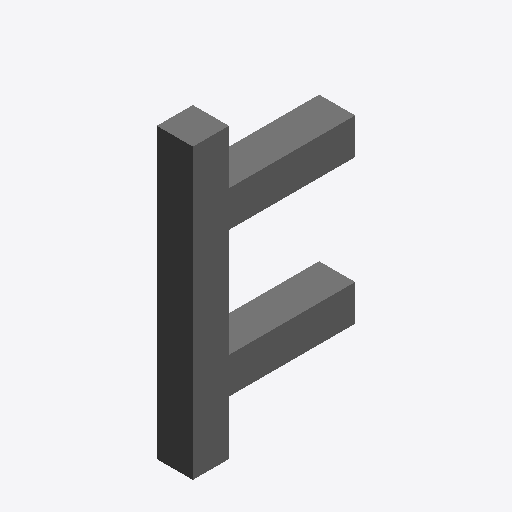
A Minecraft block model of 3 cuboids, rendered isometrically (azimuth 45°, elevation 35.3°) with the resource pack's own textures.
Visible parts, largest first — element 1, element 2, element 3.
Boxes of the visible parts, x1=… form: element 1: x1=157, y1=105, x2=228, y2=479; element 2: x1=229, y1=261, x2=354, y2=395; element 3: x1=229, y1=95, x2=354, y2=229.
Size of the model in its own units: 9 by 16 by 2.